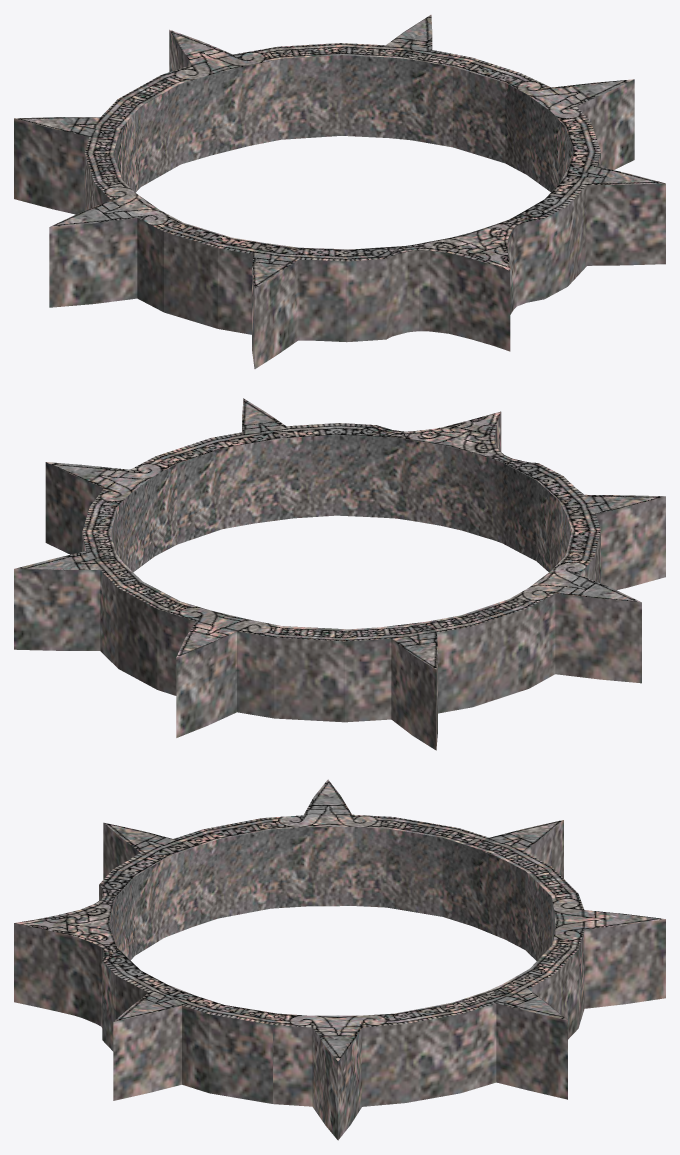
The model's file is aro4.fbx.
The picture shows the model from 3 angles, top to bottom: view 1: azimuth 30°, elevation 25°; view 2: azimuth 150°, elevation 25°; view 3: azimuth 270°, elevation 25°; orthographic projection. The views are drawn at different scales.
Parts seen in each view (by area): view 1: Plano.001; view 2: Plano.001; view 3: Plano.001.
Part boxes in pixels (x1,y1,x2,y2): Plano.001: [14, 15, 665, 368]; Plano.001: [14, 398, 665, 750]; Plano.001: [14, 779, 665, 1140].
Bounding box in the file's own units: 215 × 28.14 × 210.
